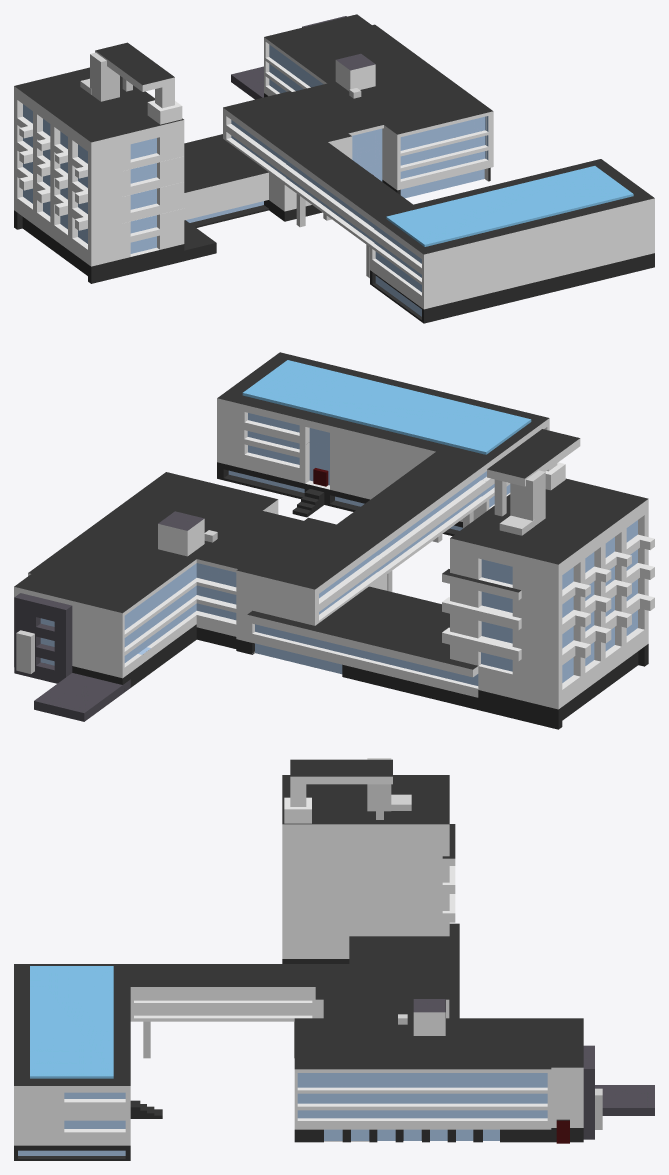
Rendered from badge_bauhaus-transformed.glb.
The picture shows the model from 3 angles, top to bottom: view 1: azimuth 30°, elevation 25°; view 2: azimuth 150°, elevation 25°; view 3: azimuth 270°, elevation 25°; orthographic projection. The views are drawn at different scales.
Parts seen in each view (by area): view 1: Cube, Cube.007; view 2: Cube, Cube.007; view 3: Cube, Cube.007.
Part boxes in pixels (x1,y1,x2,y2): Cube: (14,14,654,323); Cube.007: (80,52,369,278); Cube: (14,352,654,729); Cube.007: (16,470,545,673); Cube: (14,759,654,1160); Cube.007: (143,758,602,1129).
Bounding box in the file's own units: 13.6 × 5.29 × 15.53.
Materials: 2 (2 with a texture image).
